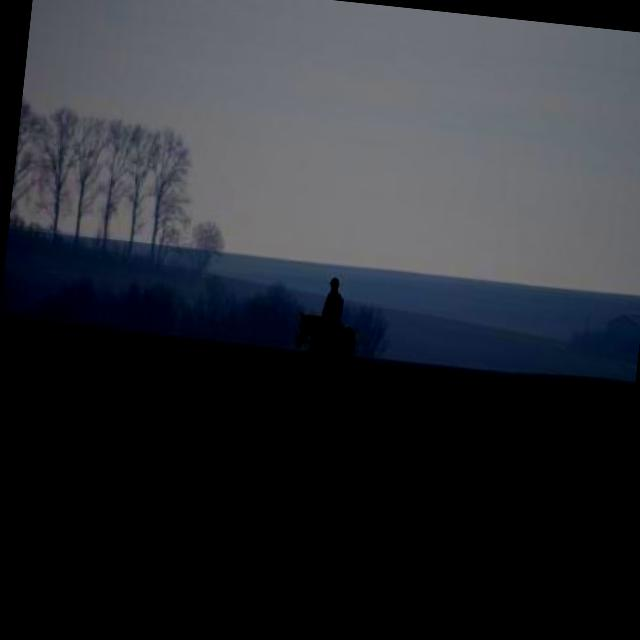Person: (312, 277, 346, 362)
